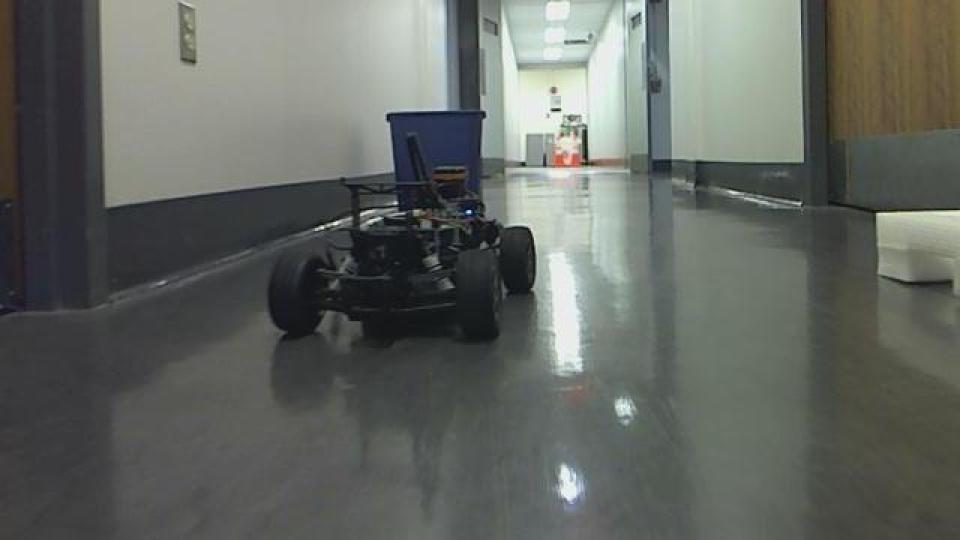car: (264, 107, 538, 345)
